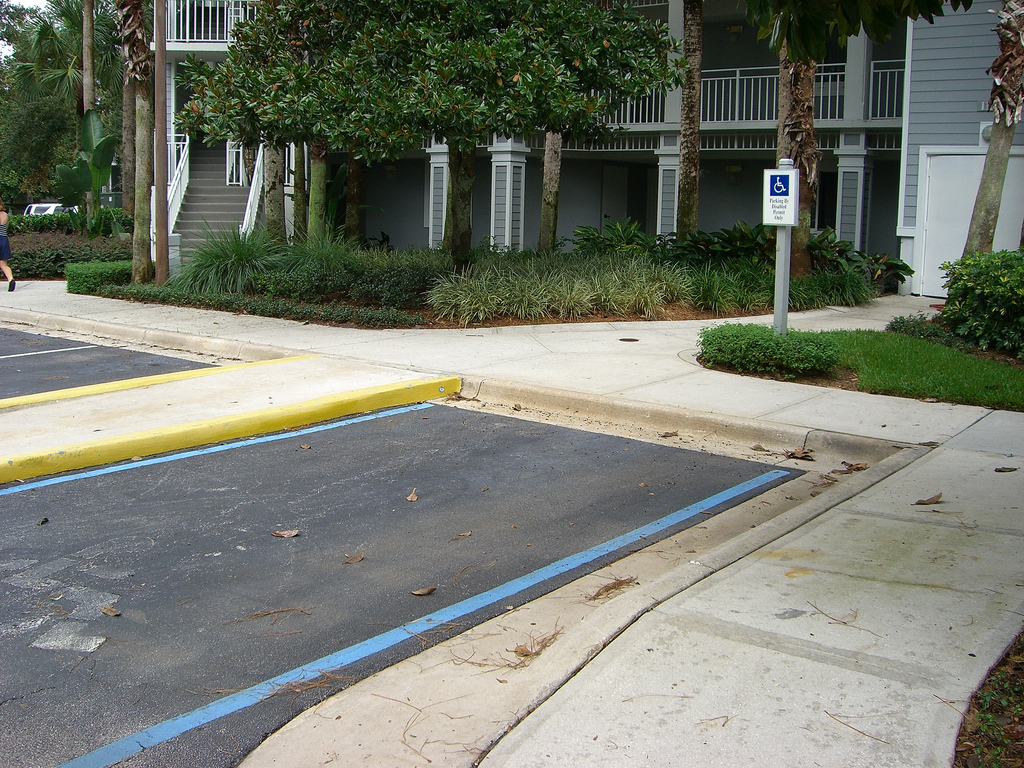empyt_space: (7, 385, 825, 729), (1, 338, 310, 426)
